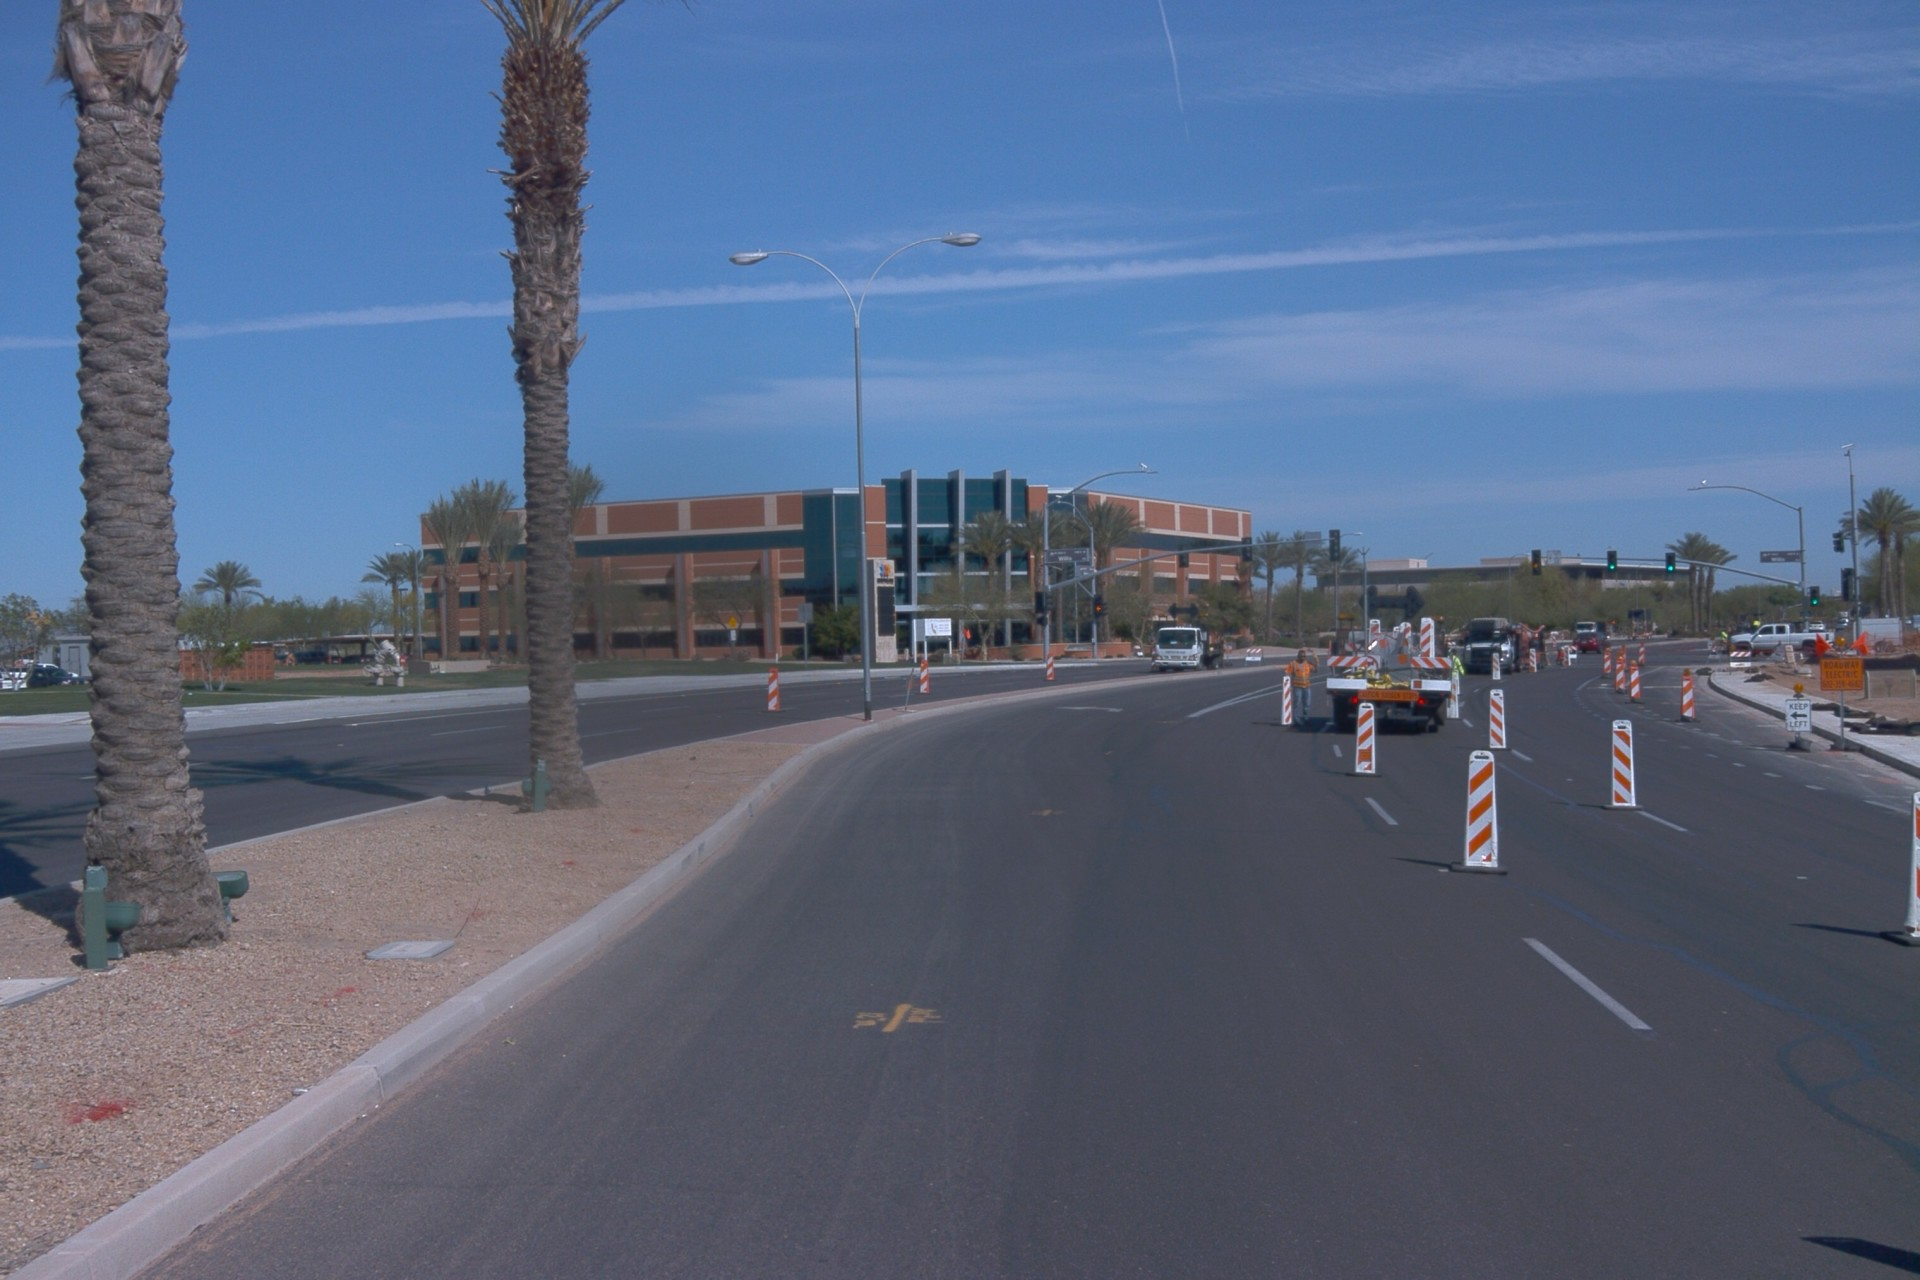TYPE_PEDESTRIAN: (1282, 648, 1320, 728), (1448, 646, 1467, 678)
TYPE_VEHICLE: (1312, 577, 1463, 741), (1449, 614, 1553, 677), (1145, 623, 1235, 678), (1729, 619, 1840, 660), (21, 663, 92, 693), (0, 661, 81, 687), (1572, 630, 1614, 661), (1571, 618, 1610, 646), (0, 673, 33, 695)
